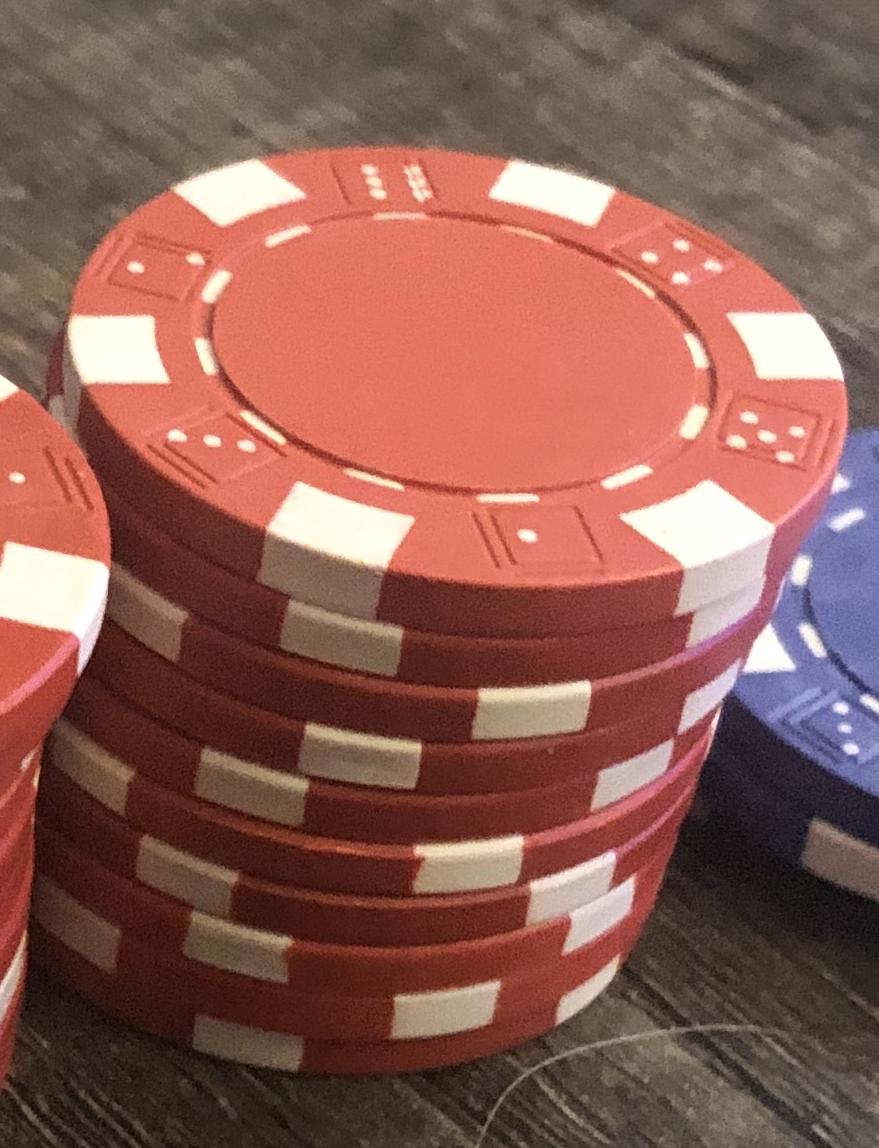Chip: (1, 1, 879, 1148)
